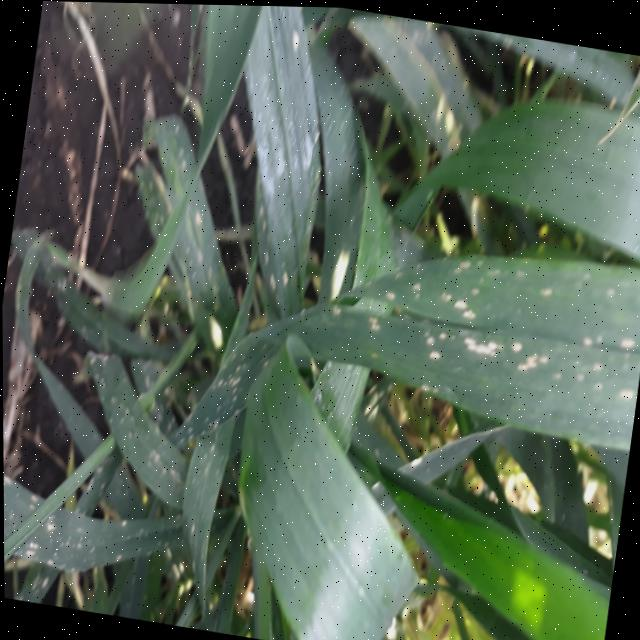powder_mildew: (264, 185, 640, 469), (83, 123, 280, 608), (206, 51, 354, 337), (3, 440, 137, 616), (72, 317, 143, 439)
